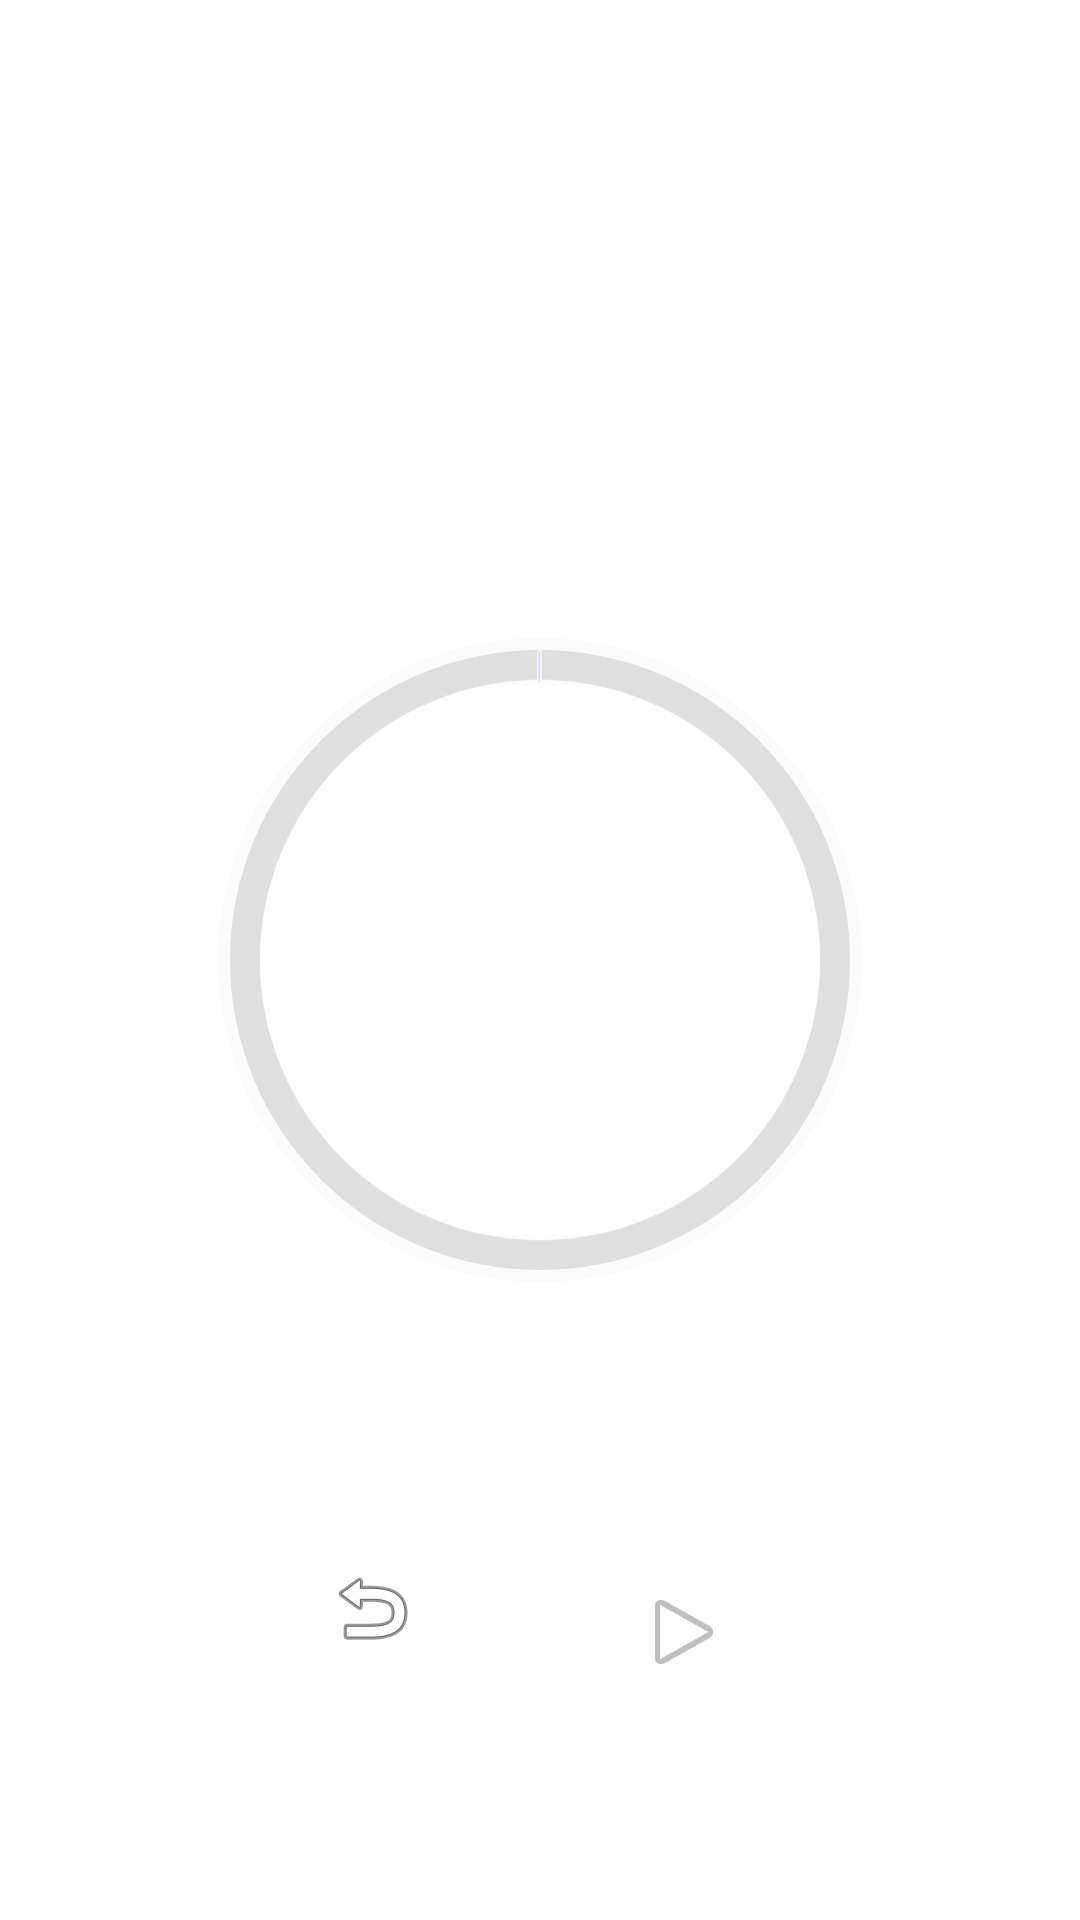

Where to tap for icons on this 1080*1920 app screen, as point (x, y):
play: point (684, 1632)
revert: point (373, 1608)
